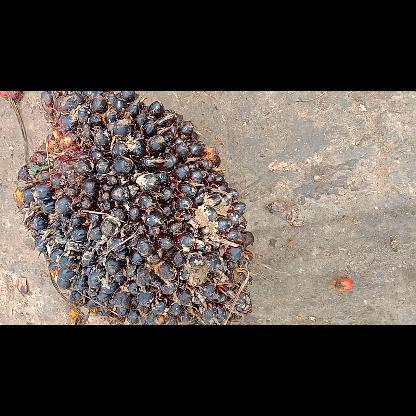TBS mentah: (9, 90, 257, 324)
